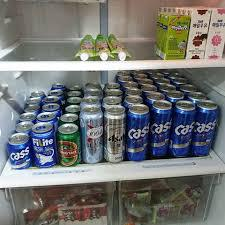beer: (7, 72, 219, 167)
